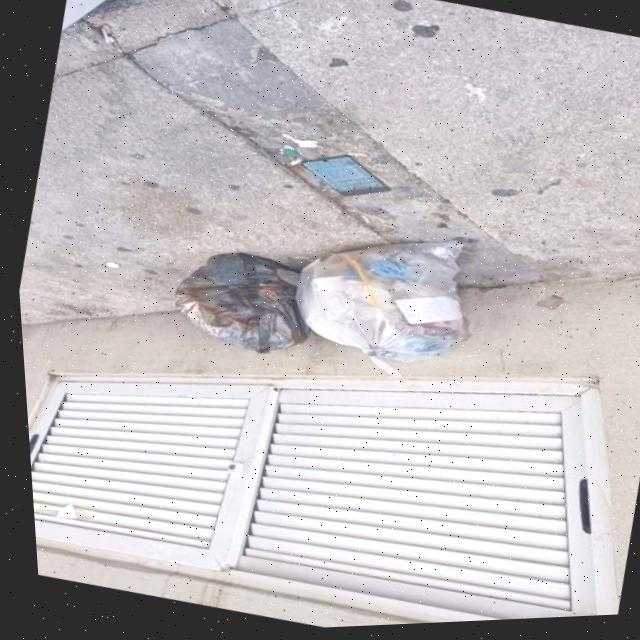Mixed Waste -Black Bag-: (156, 237, 321, 370)
Recycled Waste -Grey or Green Bag-: (270, 206, 484, 401)
